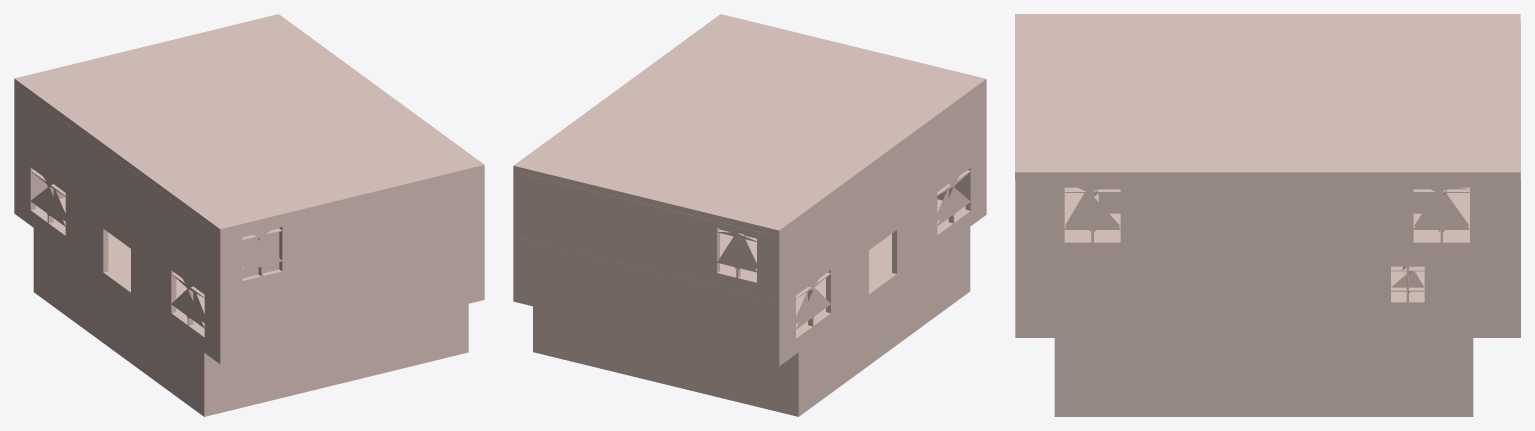
Rendered from house.fbx.
3 views of the same model, side by side, from view 1: azimuth 30°, elevation 25°; view 2: azimuth 150°, elevation 25°; view 3: azimuth 270°, elevation 25° (orthographic). The views are drawn at different scales.
Visible parts, largest first — view 1: Ceiling 4, Floor 3.001, Floor 1, Floor 3, Ceiling 2.002, Celiling 2.001, Ceiling 3; view 2: Ceiling 4, Floor 3.001, Floor 1, Floor 3, Ceiling 2.002, Celiling 2.001, Ceiling 3; view 3: Ceiling 4, Floor 1, Floor 3.001, Floor 3, Celiling 2.001, Ceiling 2.002, Ceiling 3.
Part boxes in pixels (x1,y1,x2,y2): Ceiling 4: (14,14,484,235); Floor 3.001: (14,85,484,293); Floor 1: (14,149,484,357); Floor 3: (33,228,468,410); Ceiling 2.002: (14,197,484,364); Celiling 2.001: (14,143,484,299); Ceiling 3: (33,286,468,416); Ceiling 4: (513,14,986,236); Floor 3.001: (513,85,986,295); Floor 1: (513,150,986,359); Floor 3: (533,227,970,410); Ceiling 2.002: (513,199,986,366); Celiling 2.001: (513,144,986,301); Ceiling 3: (533,285,970,416); Ceiling 4: (1015,14,1520,179); Floor 1: (1015,259,1520,330); Floor 3.001: (1015,22,1520,251); Floor 3: (1054,338,1473,409); Celiling 2.001: (1015,187,1520,258); Ceiling 2.002: (1015,266,1520,337); Ceiling 3: (1054,409,1473,416).
Bounding box in the file's own units: 1429 × 1032 × 1927.
